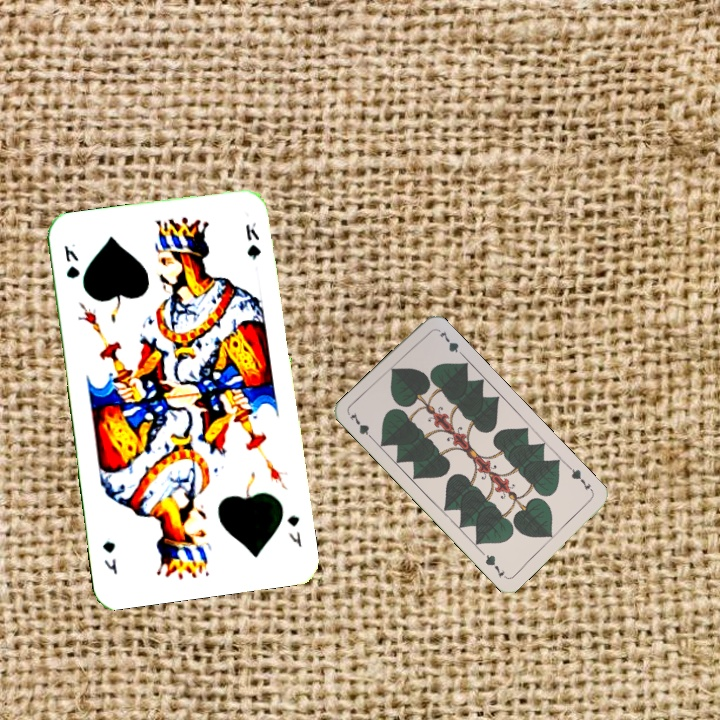G7: (346, 408, 377, 444), (565, 462, 596, 496)
GK: (60, 242, 83, 281), (283, 511, 305, 550)
